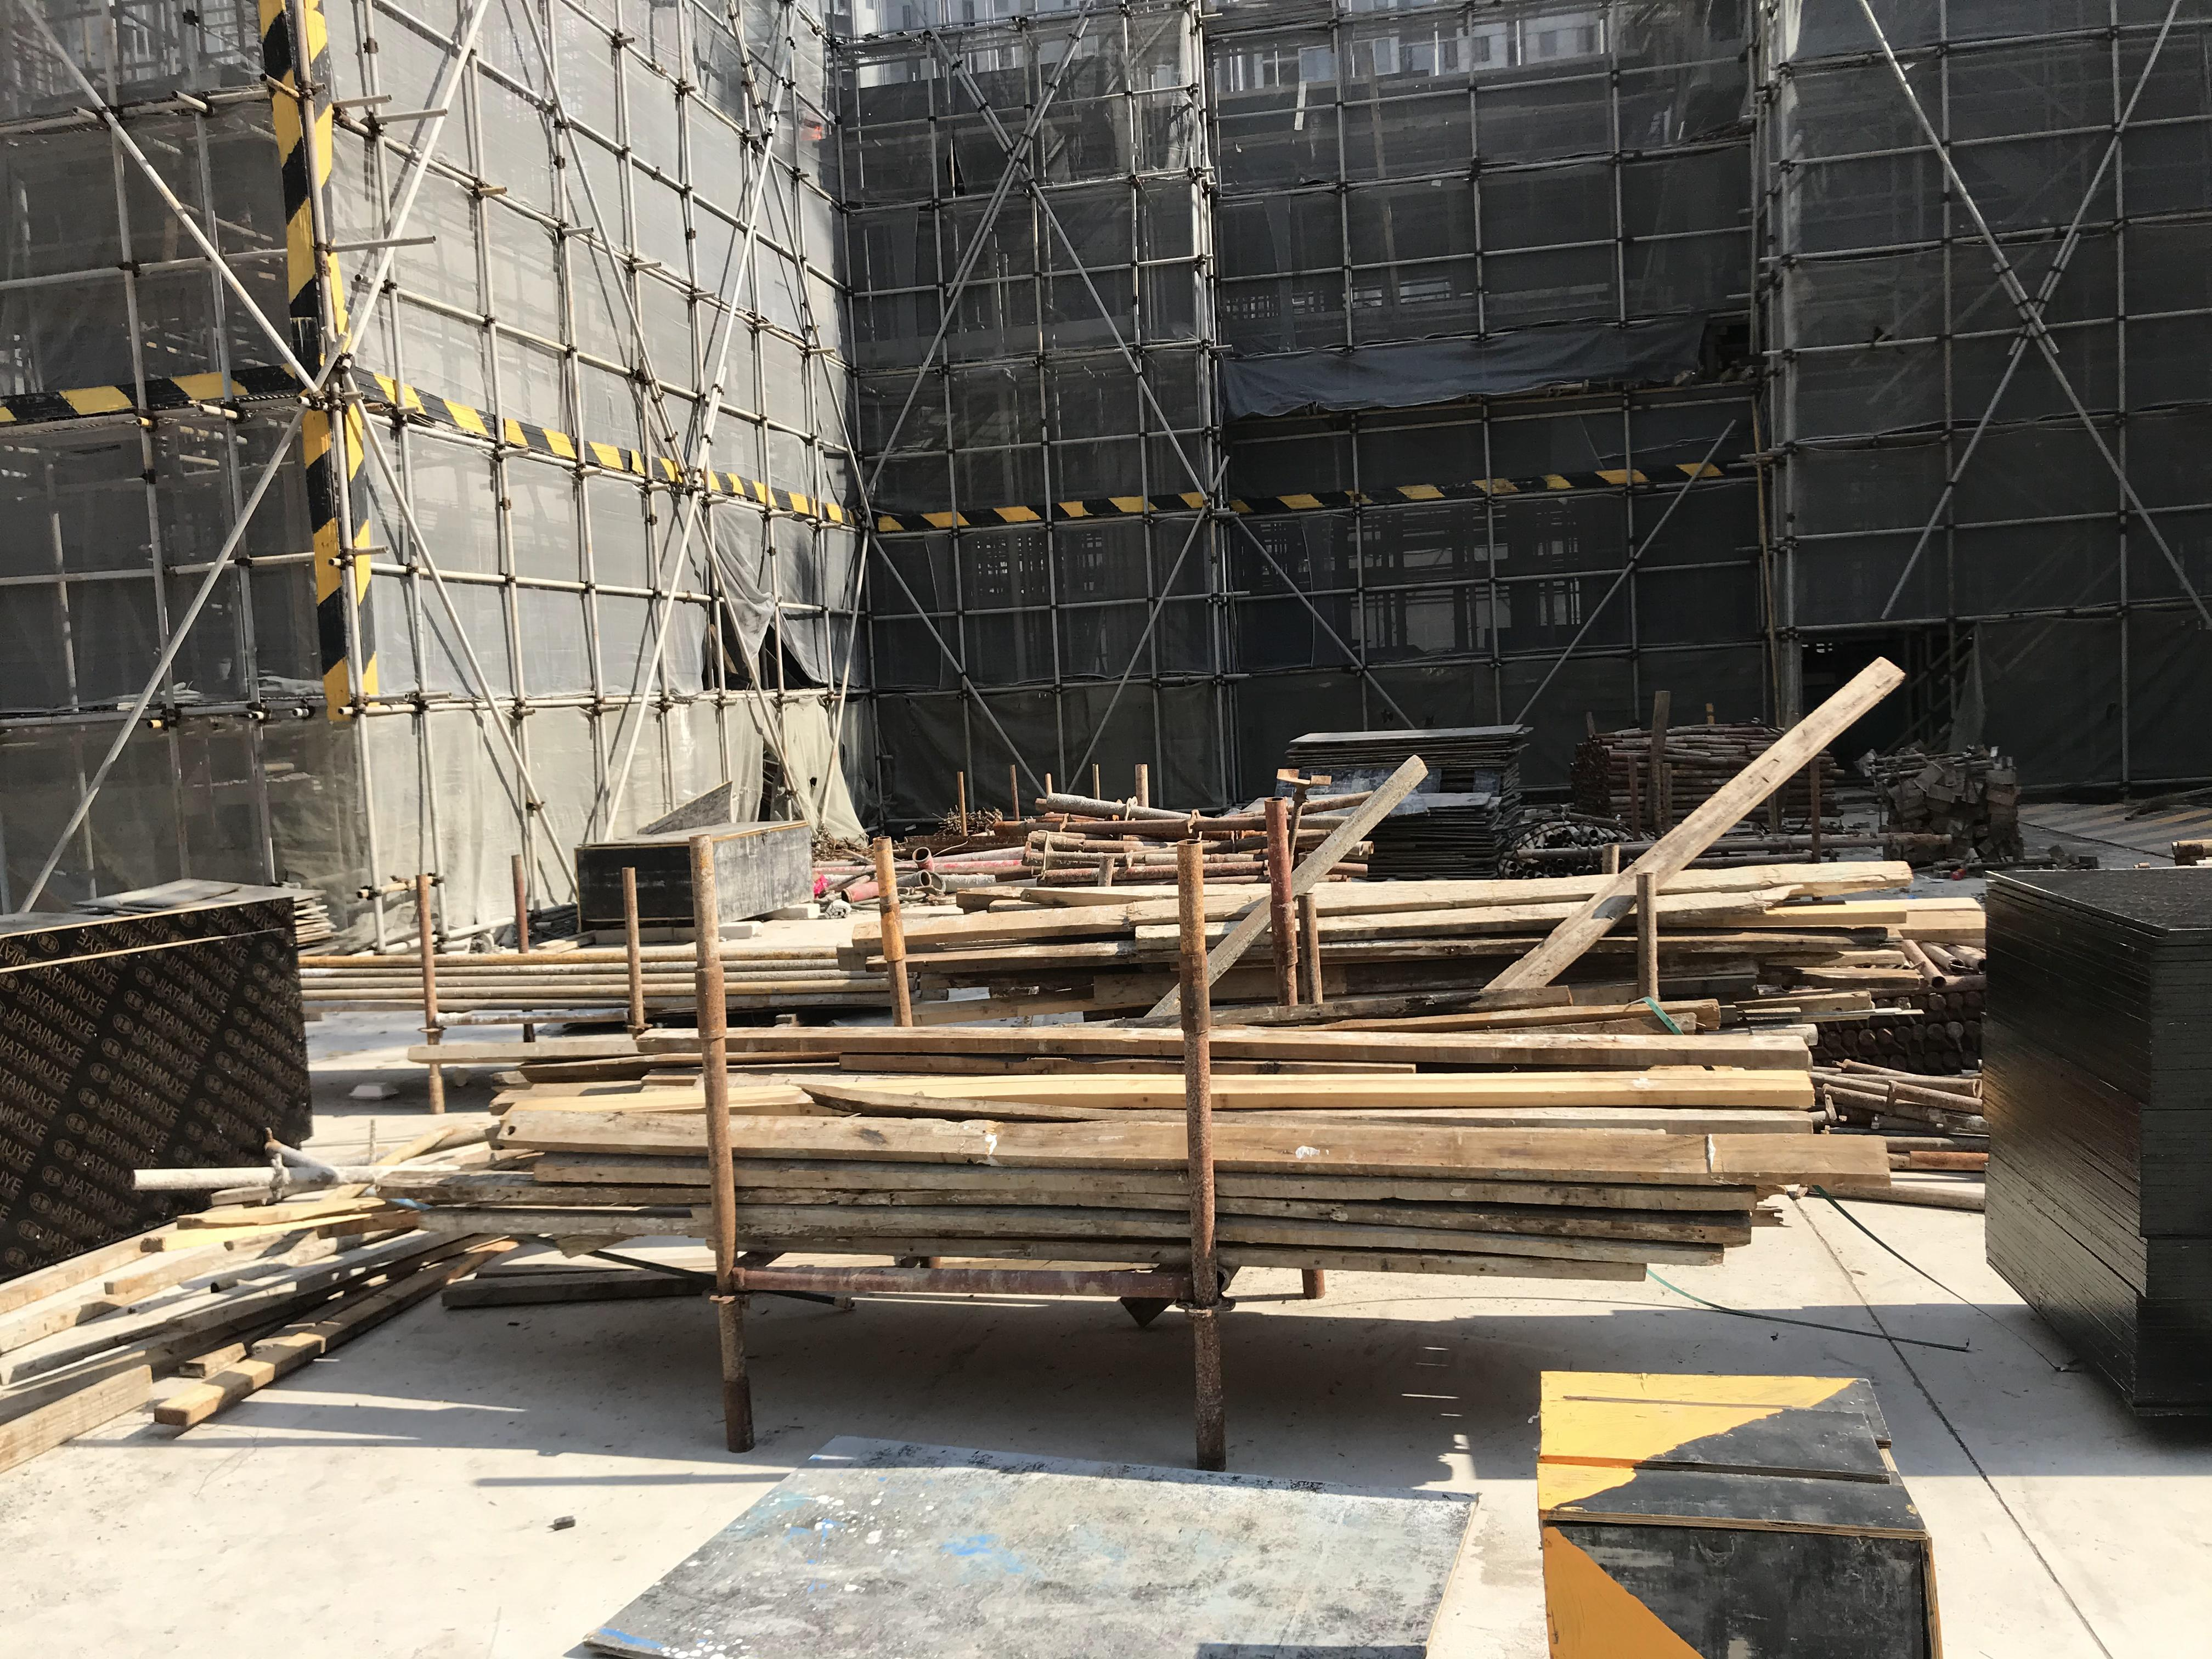board: (1374, 793, 1503, 880), (1291, 725, 1521, 767)
scaffold: (1029, 795, 1367, 880)
wood: (462, 1000, 1796, 1279)
